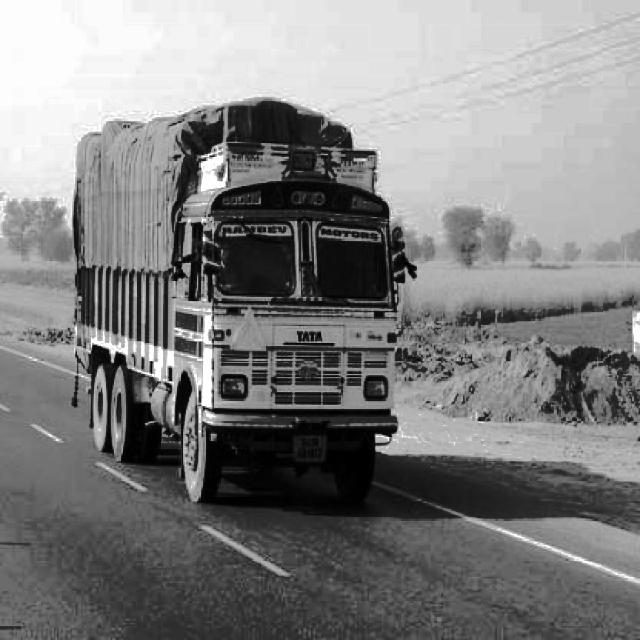HCV: (72, 97, 387, 510)
